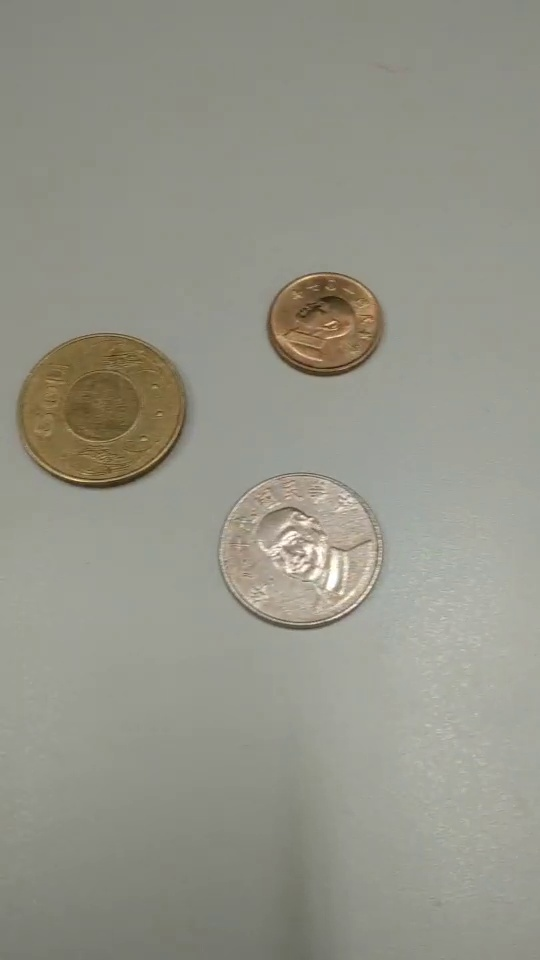NT$ 1: (268, 274, 385, 376)
NT$ 10: (216, 471, 384, 633)
NT$ 50: (17, 331, 190, 488)
